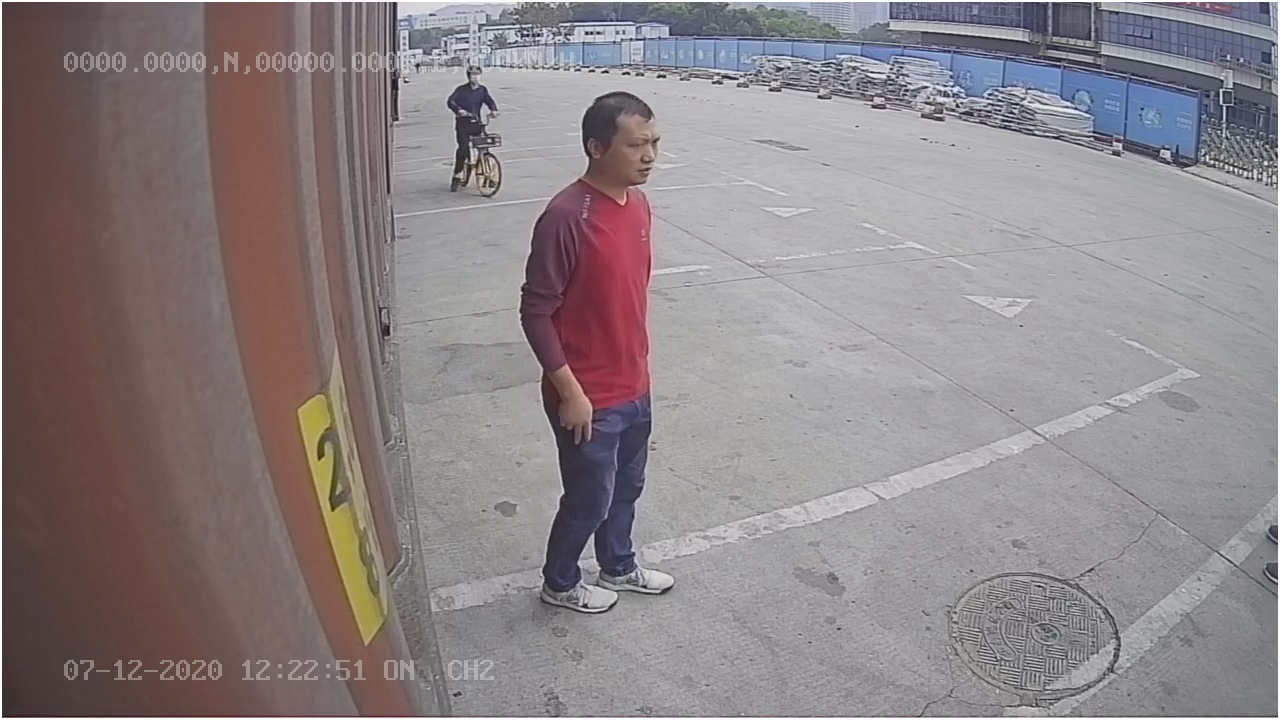person: (511, 88, 688, 615)
